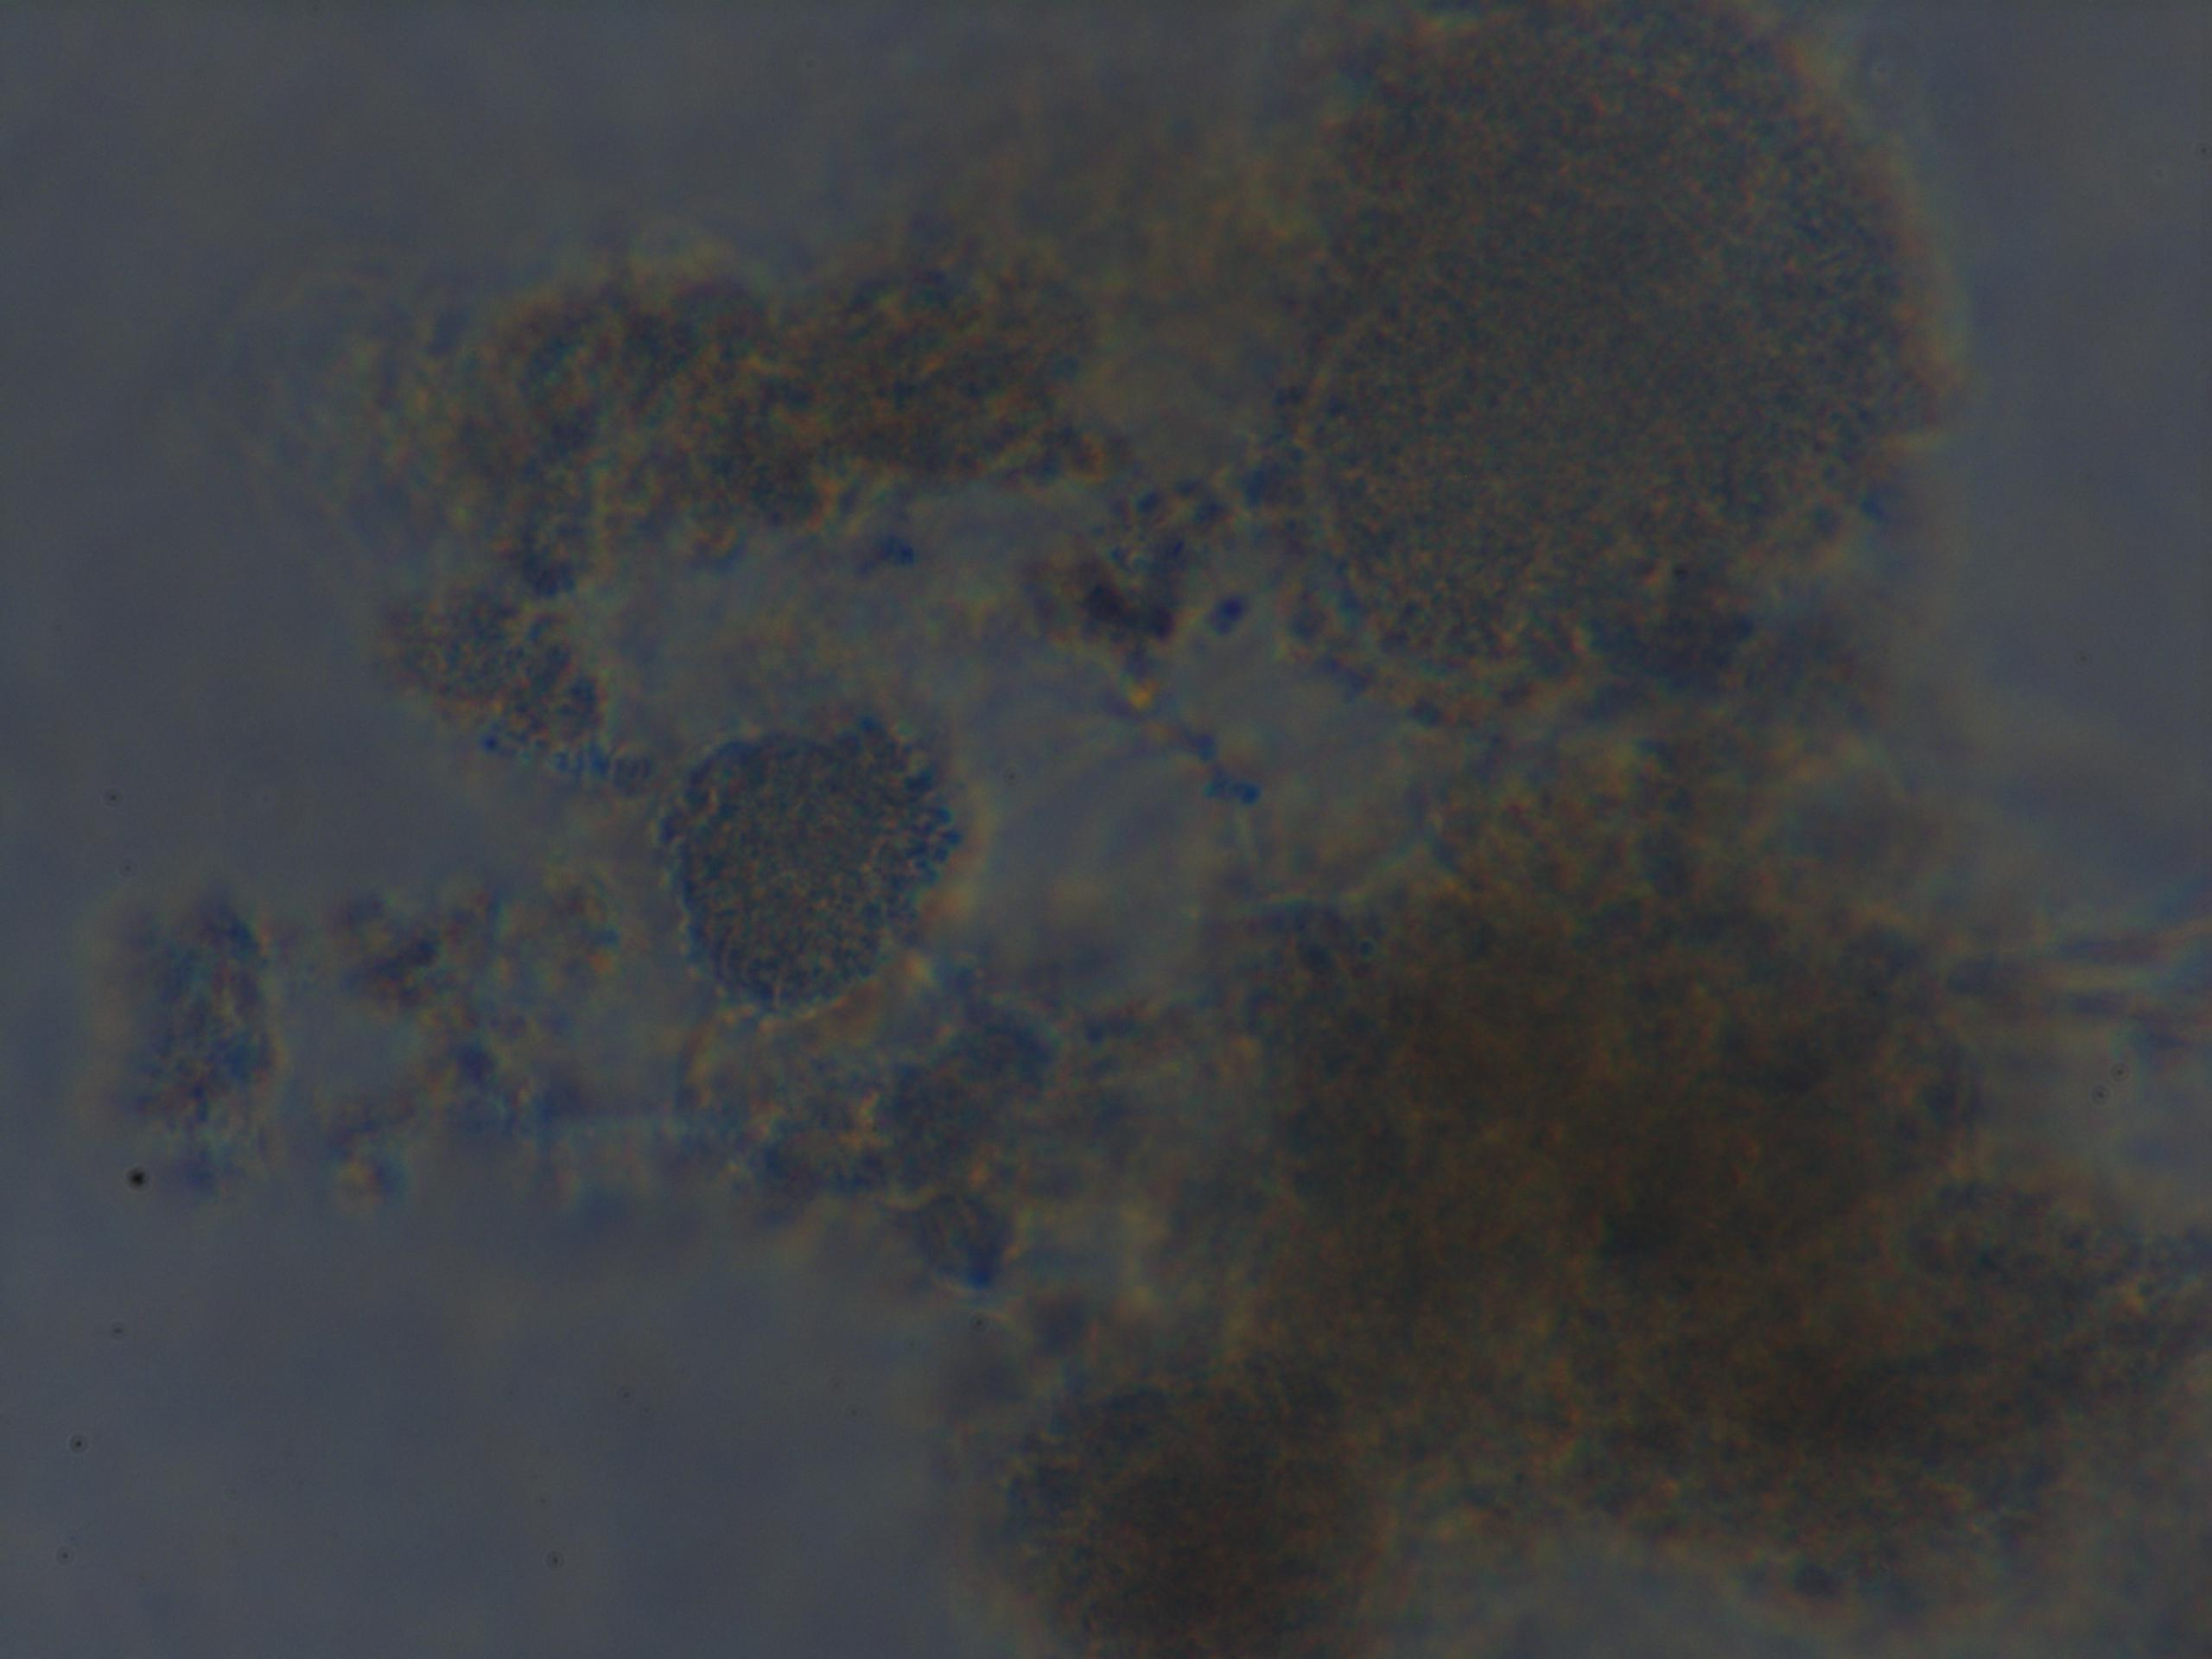spherical_floc: (1021, 779, 2212, 1659)
